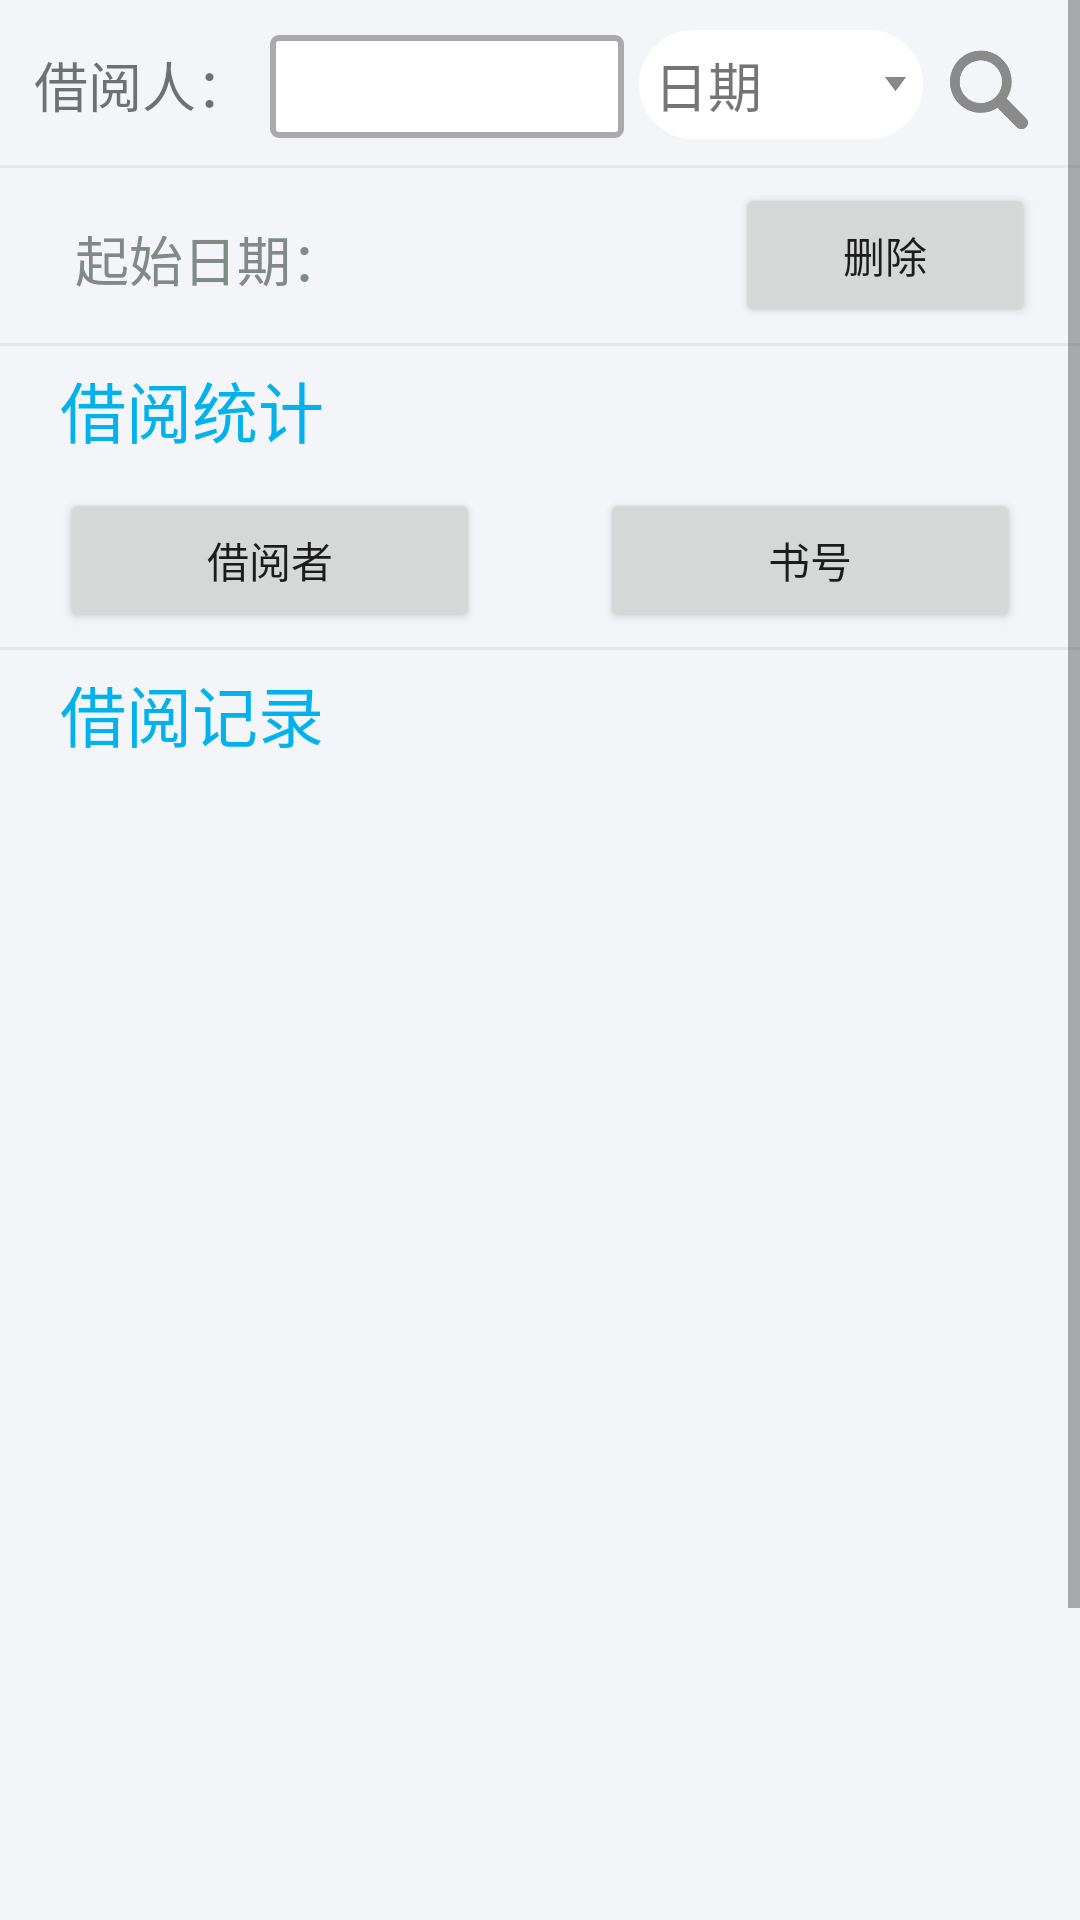

Where to tap for icons on this 1080px×1920px app screen, as (x=x, y=y):
search: (x=989, y=89)
